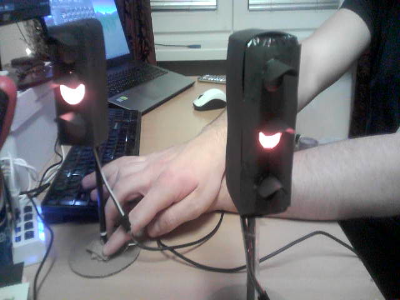trafficlight_red: (242, 38, 293, 208), (55, 29, 91, 145)
